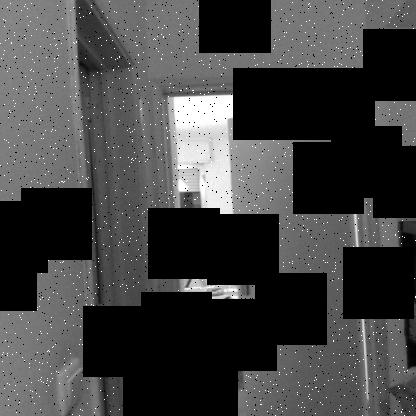Porte: (142, 67, 396, 415)
